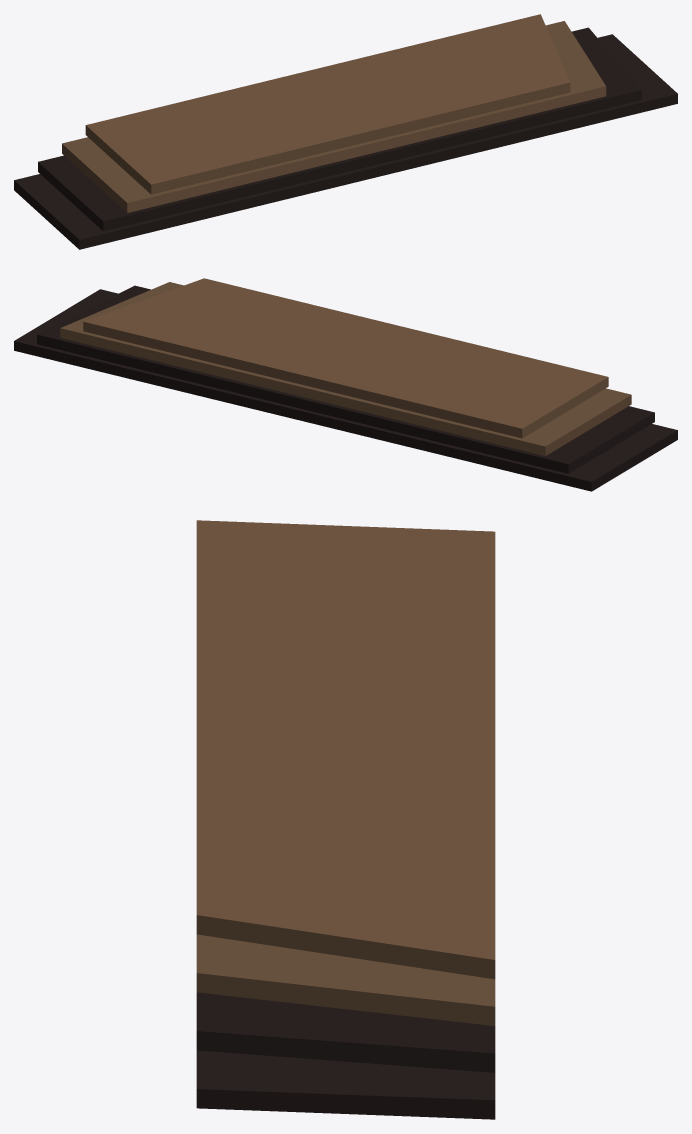
The model's file is walk_prop_goods_furs.glb.
3 views of the same model, one above another, from view 1: azimuth 30°, elevation 25°; view 2: azimuth 150°, elevation 25°; view 3: azimuth 270°, elevation 25° (orthographic). The views are drawn at different scales.
Visible parts, largest first — view 1: walk_prop_goods_furs; view 2: walk_prop_goods_furs; view 3: walk_prop_goods_furs.
Boxes of the visible parts, x1,y1,x2,y2 form: walk_prop_goods_furs: (14,14,677,249); walk_prop_goods_furs: (14,278,677,491); walk_prop_goods_furs: (196,520,495,1119).
Bounding box in the file's own units: 2.55 × 0.19 × 0.56.
1 material, 1 textured.
